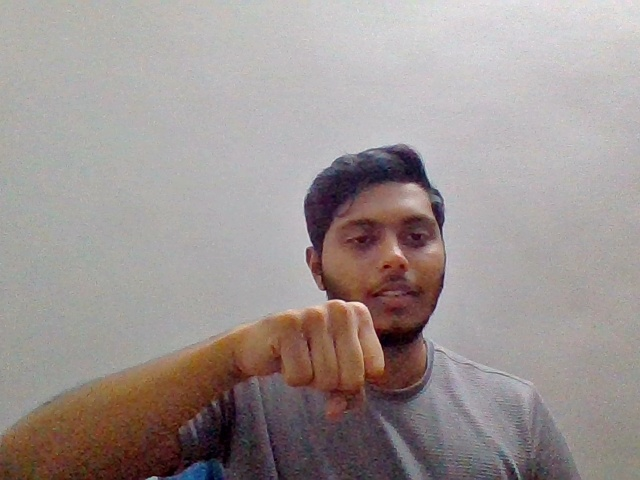Yes: (216, 295, 394, 427)
